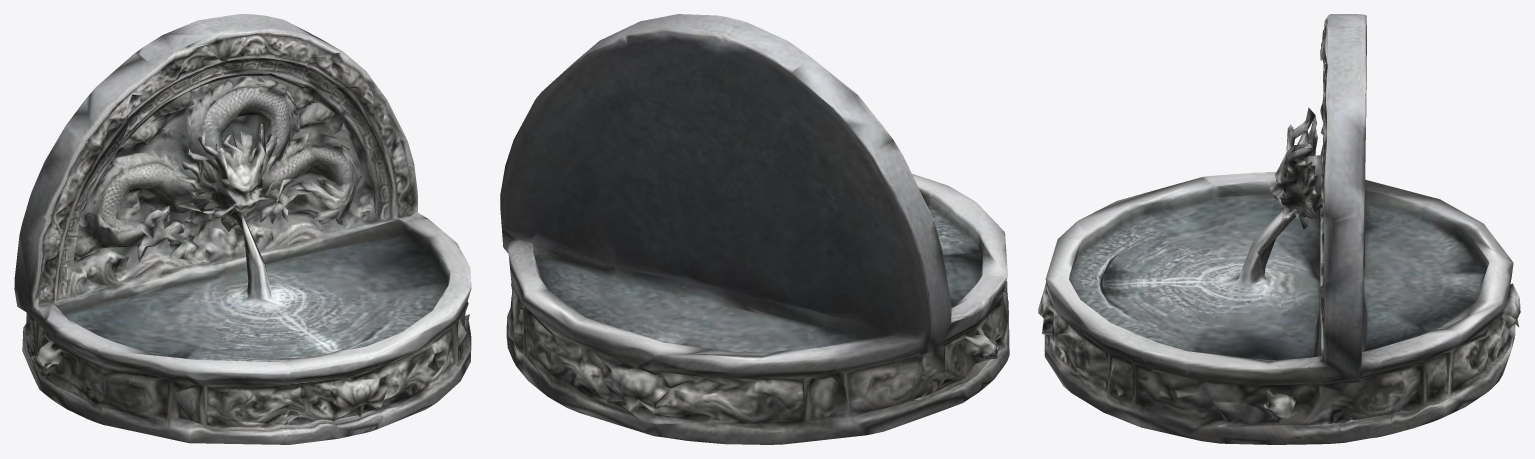
File: longquan-lite.glb
3 views of the same model, side by side, from view 1: azimuth 30°, elevation 25°; view 2: azimuth 150°, elevation 25°; view 3: azimuth 270°, elevation 25° (orthographic). The views are drawn at different scales.
Size of the model in its own units: 0.9918 by 0.6787 by 0.9402.
Materials: 1 (1 with a texture image).
